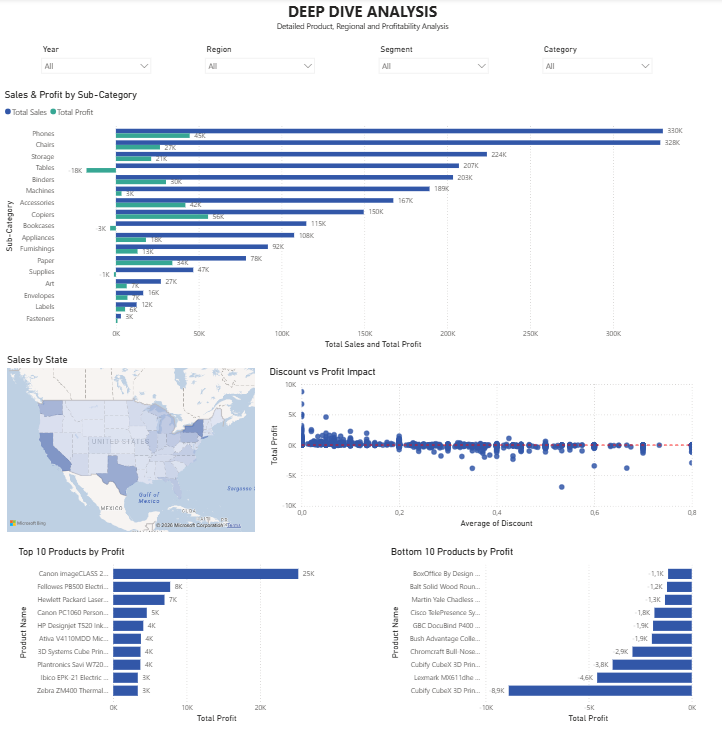

The dashboard page shown, as its layout file describes it:
{"tool":"powerbi","page":{"name":"Deep Dive Analysis","canvas":[1280,1300],"ordinal":1},"visuals":[{"type":"textbox","box":[9.8,0,1270.5,64.8],"z":0},{"type":"clusteredBarChart","title":"Sales & Profit by Sub-Category","fields":{"Category":["superstore_cleaned.Sub-Category"],"Y":["superstore_cleaned.Total Sales","superstore_cleaned.Total Profit"]},"box":[6.8,162,1230,464],"z":1000},{"type":"filledMap","title":"Sales by State","fields":{"Category":["superstore_cleaned.State"]},"box":[10,630,448,318],"z":2000},{"type":"scatterChart","title":"Discount vs Profit Impact","fields":{"X":["Avg(superstore_cleaned.Discount)"],"Y":["superstore_cleaned.Total Profit"],"Category":["superstore_cleaned.Order ID"]},"box":[474,650,764,292],"z":3000},{"type":"clusteredBarChart","title":"Top 10 Products by Profit","fields":{"Category":["superstore_cleaned.Product Name"],"Y":["superstore_cleaned.Total Profit"]},"box":[30,966,554,318],"z":3001},{"type":"clusteredBarChart","title":"Bottom 10 Products by Profit","fields":{"Category":["superstore_cleaned.Product Name"],"Y":["superstore_cleaned.Total Profit"]},"box":[689.7,966.7,548.7,317.9],"z":3002},{"type":"slicer","fields":{"Values":["superstore_cleaned.Year"]},"box":[67.3,78.3,214,69.7],"z":3003},{"type":"slicer","fields":{"Values":["superstore_cleaned.Region"]},"box":[354.6,78.3,214,69.7],"z":3004},{"type":"slicer","fields":{"Values":["superstore_cleaned.Segment"]},"box":[661.6,78.3,214,69.7],"z":3005},{"type":"slicer","fields":{"Values":["superstore_cleaned.Category"]},"box":[952.6,78.3,214,69.7],"z":3006}]}

Visuals, with their boxes in screenshot pixels (x1, y1, x2, y2), scaled from the page's 1280x1300 canvas onto the 722x732 screenshot:
textbox: select_region(6, 0, 721, 36)
"Sales & Profit by Sub-Category" clusteredBarChart: select_region(4, 91, 698, 352)
"Sales by State" filledMap: select_region(6, 355, 258, 534)
"Discount vs Profit Impact" scatterChart: select_region(267, 366, 698, 530)
"Top 10 Products by Profit" clusteredBarChart: select_region(17, 544, 329, 723)
"Bottom 10 Products by Profit" clusteredBarChart: select_region(389, 544, 699, 723)
slicer - superstore_cleaned.Year: select_region(38, 44, 159, 83)
slicer - superstore_cleaned.Region: select_region(200, 44, 321, 83)
slicer - superstore_cleaned.Segment: select_region(373, 44, 494, 83)
slicer - superstore_cleaned.Category: select_region(537, 44, 658, 83)
